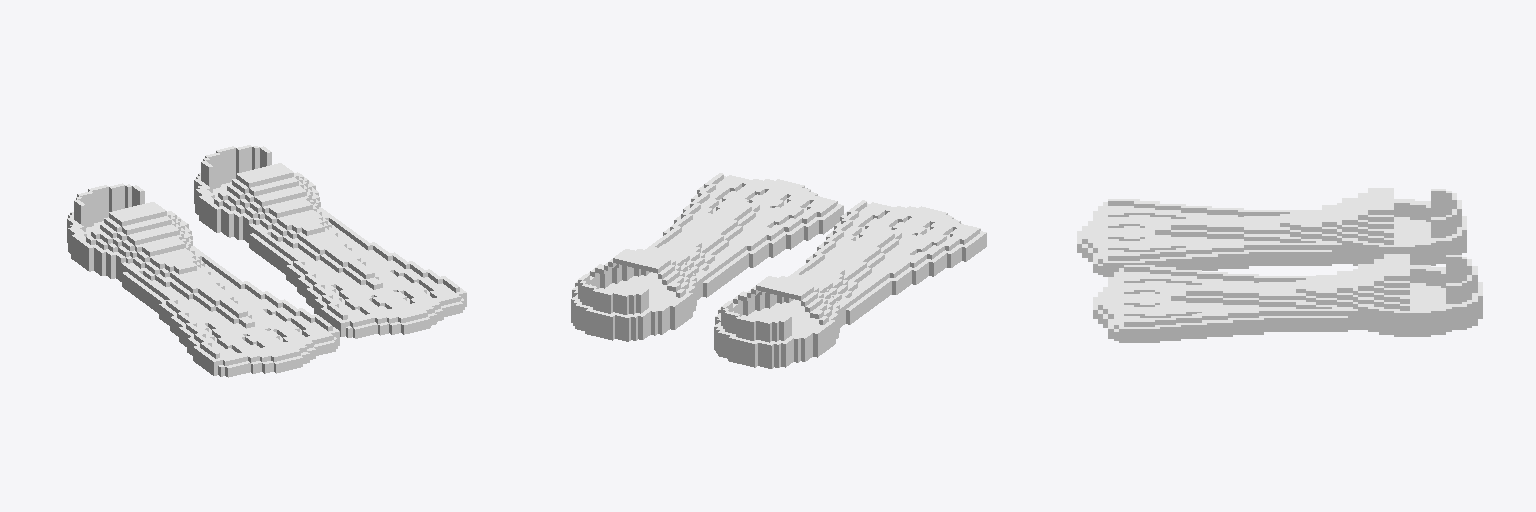
Rendered from DuckFeet.obj.
The picture shows the model from 3 angles: view 1: azimuth 30°, elevation 25°; view 2: azimuth 150°, elevation 25°; view 3: azimuth 270°, elevation 25°; orthographic projection.
Parts seen in each view (by area): view 1: object 1; view 2: object 1; view 3: object 1.
Part boxes in pixels (x1,y1,x2,y2): object 1: (67, 145, 466, 377); object 1: (571, 173, 986, 368); object 1: (1077, 188, 1482, 342).
Size of the model in its own units: 5.8 by 1 by 7.8.